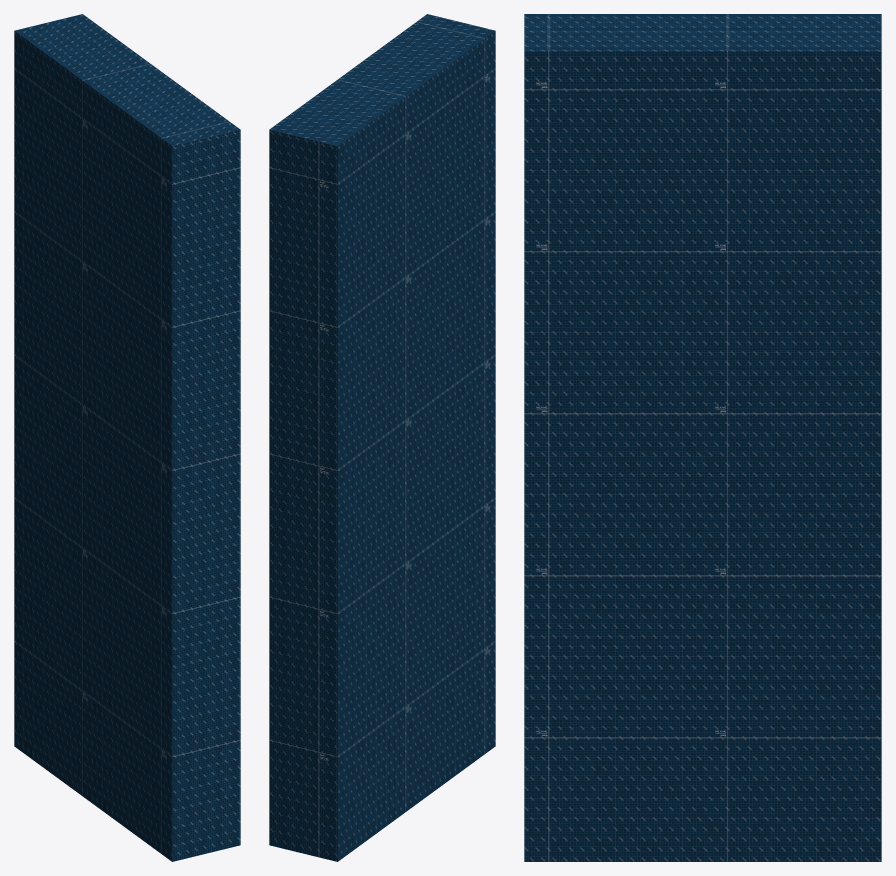
The model's file is WallA2mX5mX050.fbx.
The picture shows the model from 3 angles, left to right: view 1: azimuth 30°, elevation 25°; view 2: azimuth 150°, elevation 25°; view 3: azimuth 270°, elevation 25°; orthographic projection. The views are drawn at different scales.
Visible parts, largest first — view 1: 2mwallthin; view 2: 2mwallthin; view 3: 2mwallthin.
Boxes of the visible parts, x1=… form: 2mwallthin: x1=14, y1=14, x2=240, y2=861; 2mwallthin: x1=269, y1=14, x2=495, y2=861; 2mwallthin: x1=524, y1=14, x2=881, y2=861.
Size of the model in its own units: 50 by 500 by 200.
Materials: 1 (1 with a texture image).
